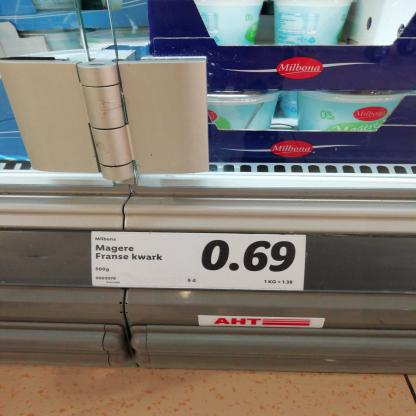prtg: (92, 232, 307, 291)
